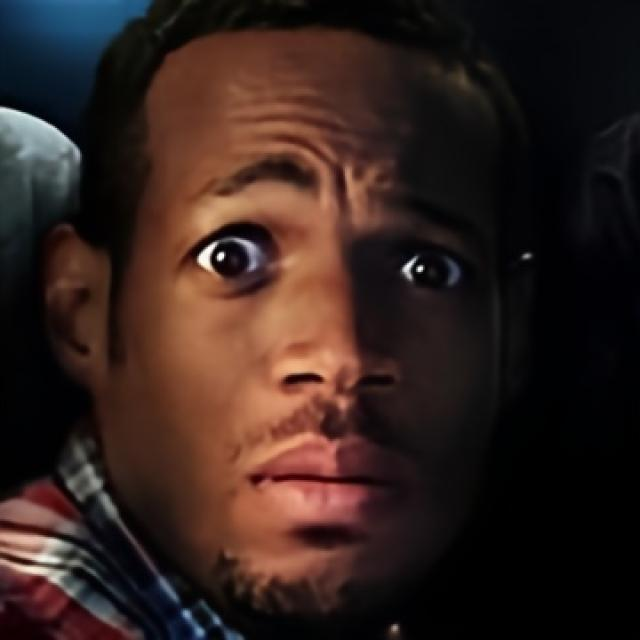fear: (112, 21, 505, 621)
